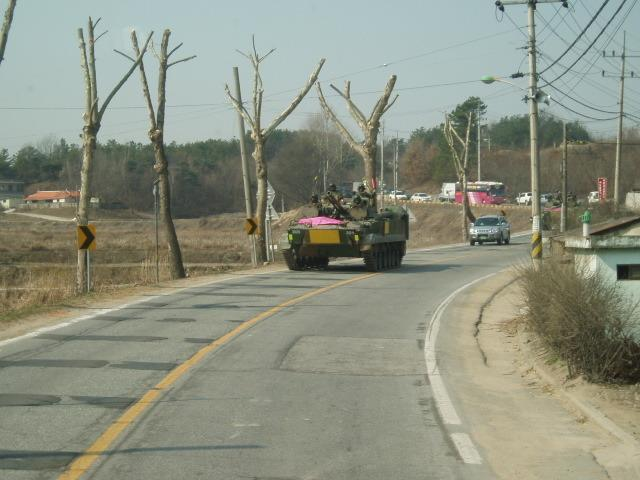MIL_IFV: (282, 182, 410, 276)
